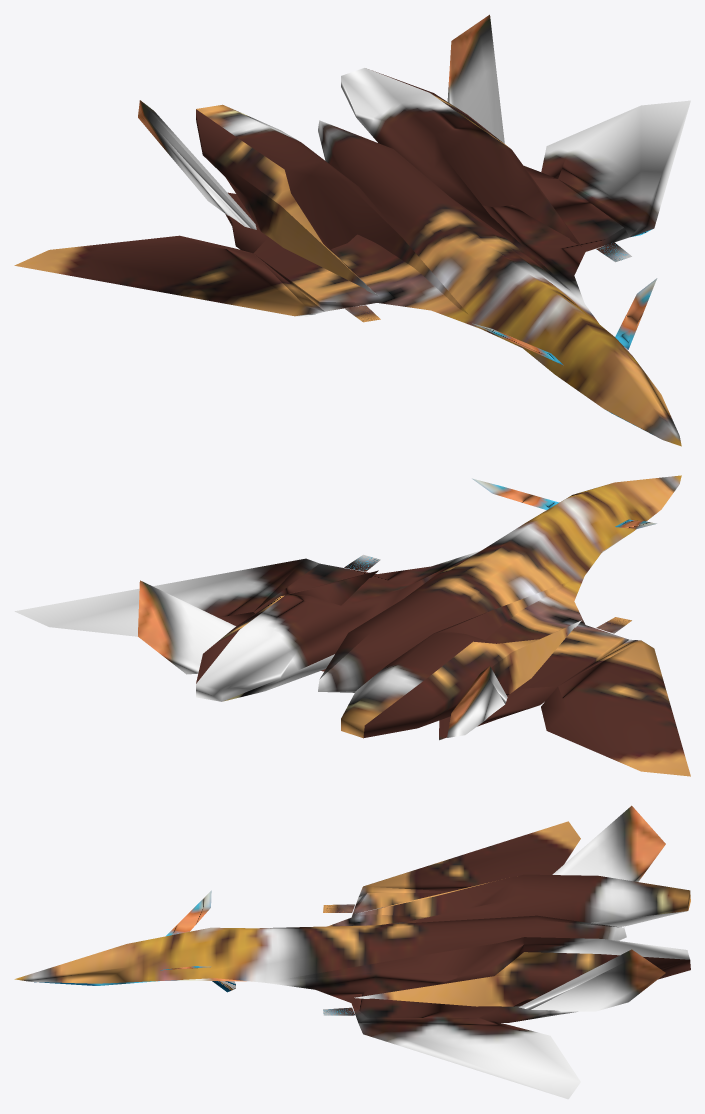
The model's file is stan.ico.obj.
The picture shows the model from 3 angles, top to bottom: view 1: azimuth 30°, elevation 25°; view 2: azimuth 150°, elevation 25°; view 3: azimuth 270°, elevation 25°; orthographic projection. The views are drawn at different scales.
Bounding box in the file's own units: 4.68 × 0.9021 × 4.81.
